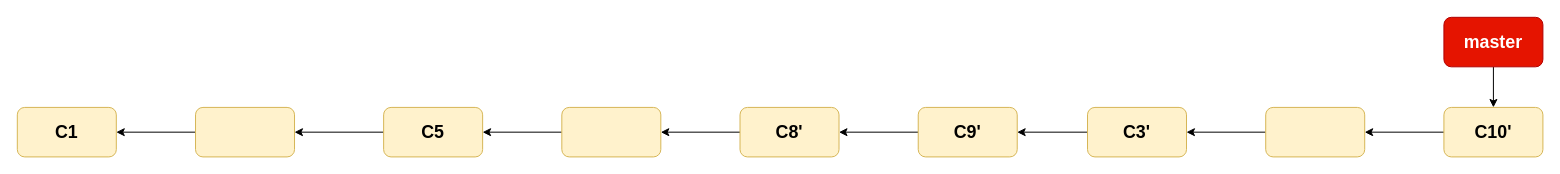
Some shapes in this 1560 by 174 pixel diagram are drawn without their labels. Each missing label, with the box of its shape:
C2: (195, 106, 295, 157)
C4': (1265, 106, 1365, 157)
C6: (561, 106, 661, 157)
